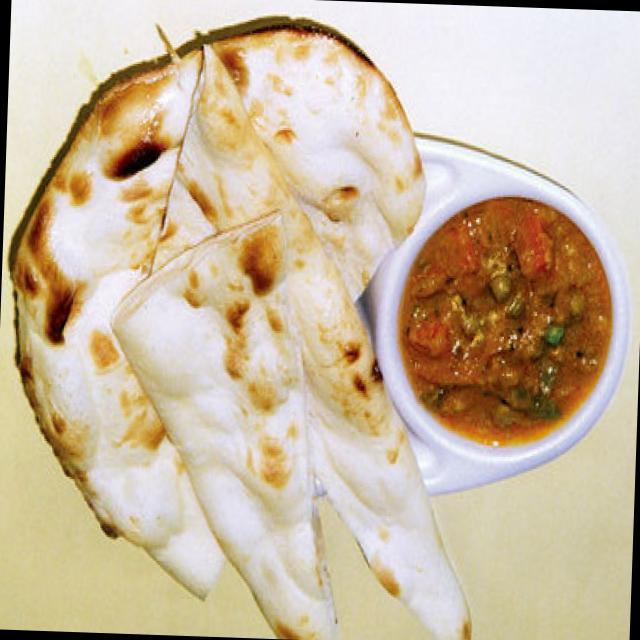Beef Curry: (412, 225, 594, 440)
